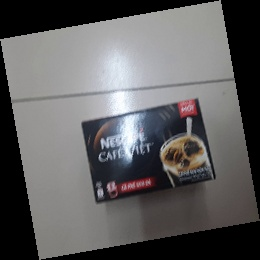CF Viet: (81, 97, 217, 206)
